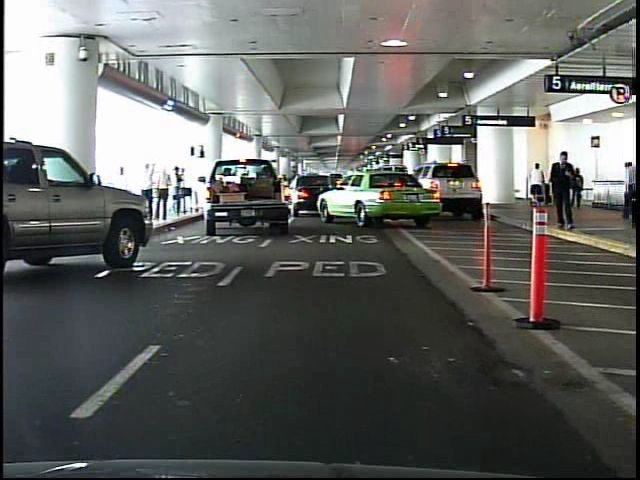person: (549, 144, 582, 236), (530, 161, 545, 208), (572, 168, 586, 212)
